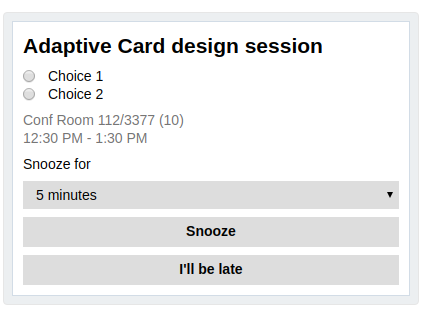radio_button: (18, 68, 117, 88), (21, 85, 113, 103)
textbox: (21, 34, 331, 65), (23, 113, 187, 144), (20, 155, 100, 176)
